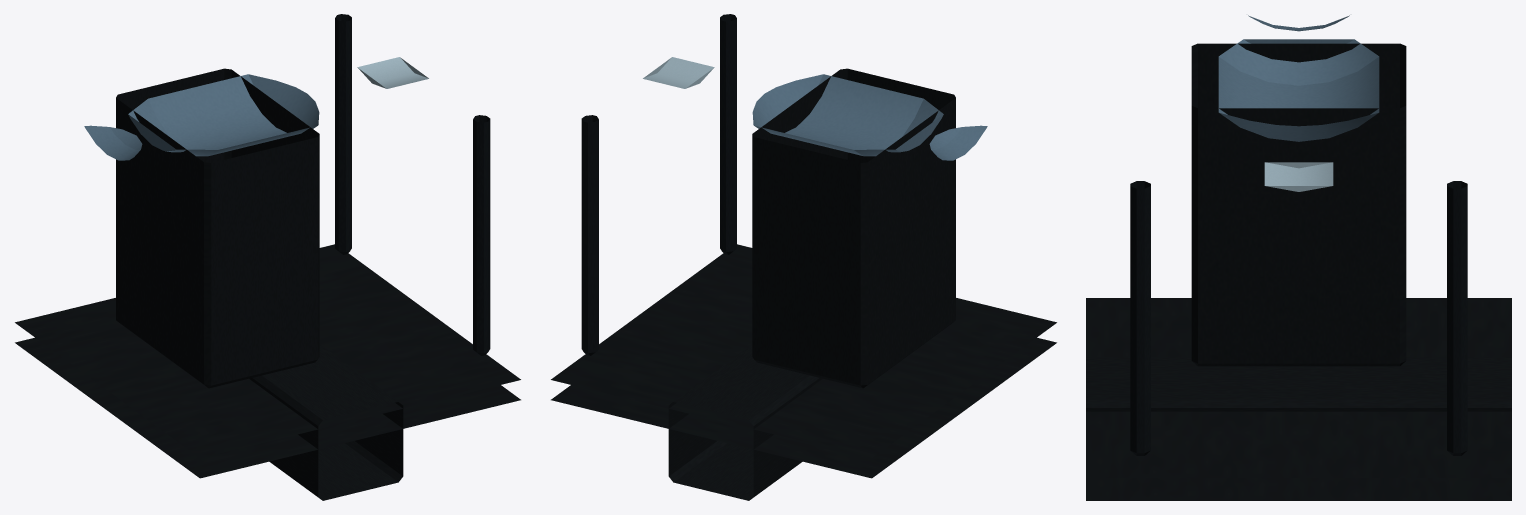
File: cell_10.obj
3 renders of one model, left to right at view 1: azimuth 30°, elevation 25°; view 2: azimuth 150°, elevation 25°; view 3: azimuth 270°, elevation 25°, orthographic. The views are drawn at different scales.
Visible parts, largest first — view 1: cell_10; view 2: cell_10; view 3: cell_10.
Boxes of the visible parts, <box> form: cell_10: <box>15,14,520,500</box>; cell_10: <box>551,14,1056,500</box>; cell_10: <box>1086,15,1511,500</box>.
Size of the model in its own units: 1 by 0.952 by 1.
